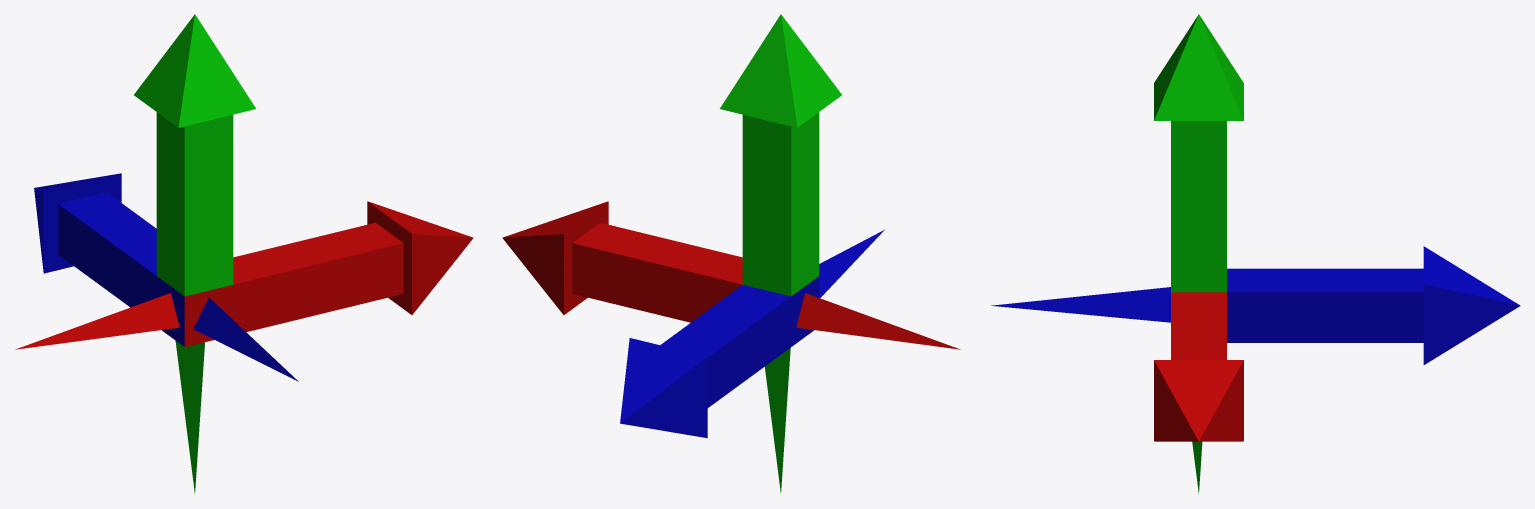
Rendered from compass.dae.
3 renders of one model, left to right at view 1: azimuth 30°, elevation 25°; view 2: azimuth 150°, elevation 25°; view 3: azimuth 270°, elevation 25°, orthographic.
Parts seen in each view (by area): view 1: DirectXCompass; view 2: DirectXCompass; view 3: DirectXCompass.
Boxes of the visible parts, x1,y1,x2,y2 form: DirectXCompass: [15, 14, 473, 493]; DirectXCompass: [502, 14, 960, 493]; DirectXCompass: [991, 14, 1520, 493].
Size of the model in its own units: 4.74 by 4.74 by 4.74.
